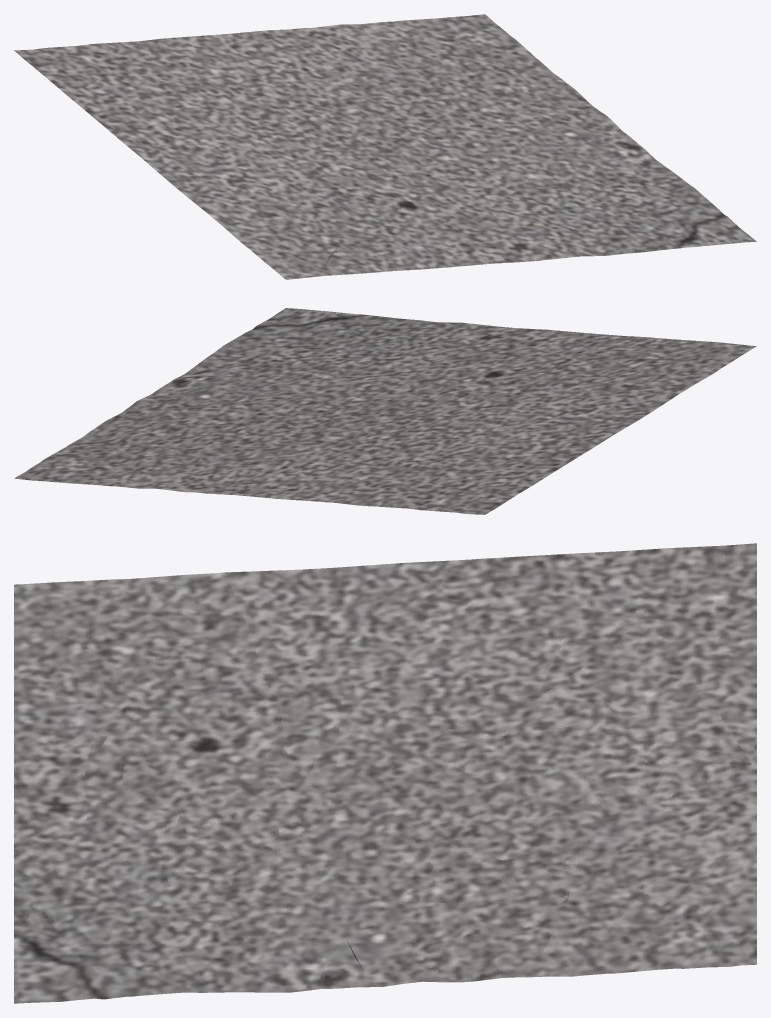
The picture shows the model from 3 angles, top to bottom: view 1: azimuth 30°, elevation 25°; view 2: azimuth 150°, elevation 25°; view 3: azimuth 270°, elevation 25°; orthographic projection. The views are drawn at different scales.
Size of the model in its own units: 0.8373 by 0.182 by 0.8373.
3 materials, 3 textured.
